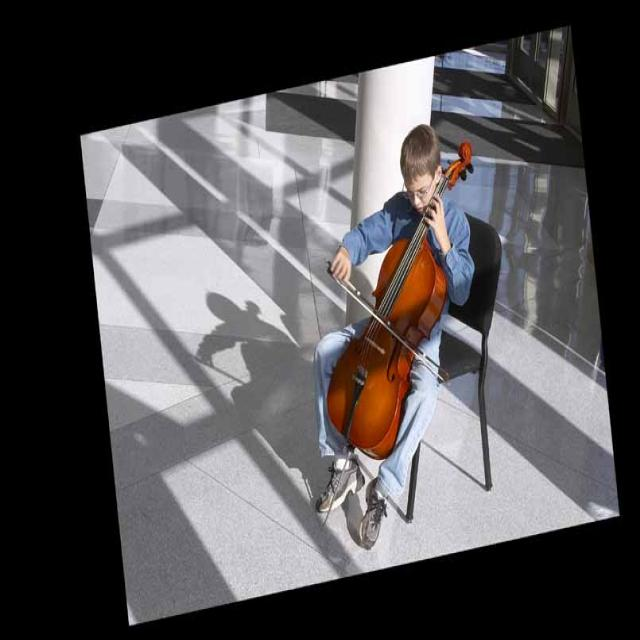cello: (327, 141, 471, 460)
